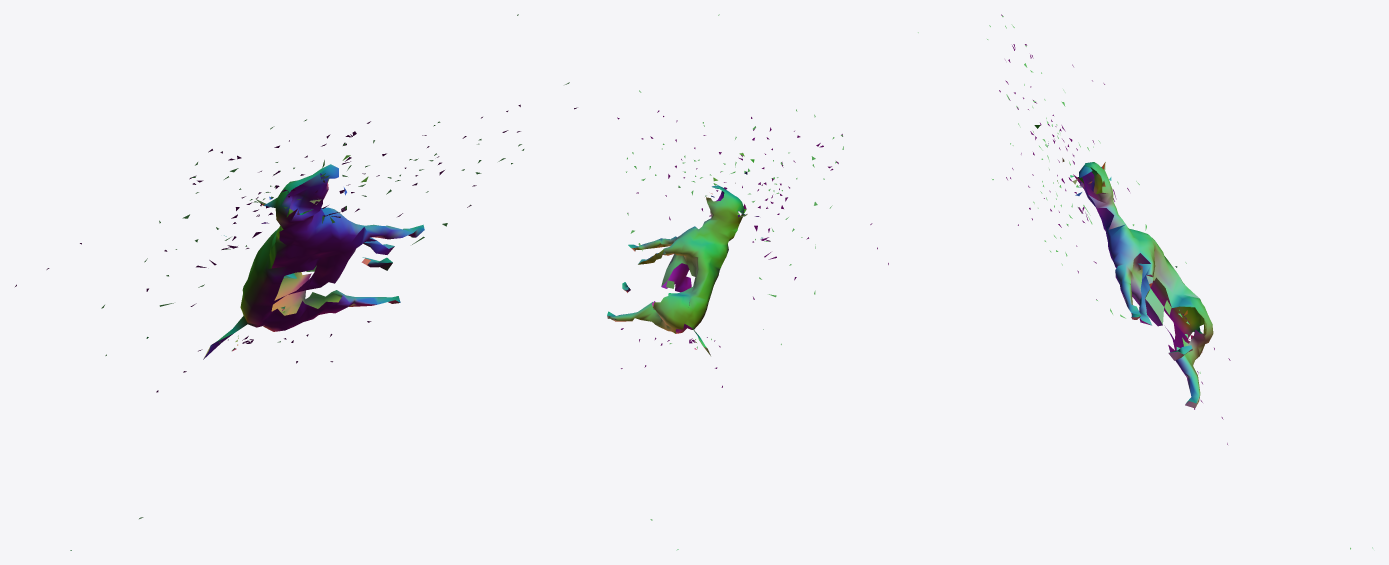
File: zeometry-fragments-ruins-shattered-fragment_v2.glb
3 renders of one model, left to right at view 1: azimuth 30°, elevation 25°; view 2: azimuth 150°, elevation 25°; view 3: azimuth 270°, elevation 25°, orthographic. The views are drawn at different scales.
Visible parts, largest first — view 1: Shattered Fragment_v2; view 2: Shattered Fragment_v2; view 3: Shattered Fragment_v2.
Part boxes in pixels (left/top/right/bottom): Shattered Fragment_v2: left=15, top=14, right=577, bottom=550; Shattered Fragment_v2: left=607, top=14, right=888, bottom=550; Shattered Fragment_v2: left=918, top=14, right=1372, bottom=549.
Bounding box in the file's own units: 0.3946 × 0.5 × 0.3459.
